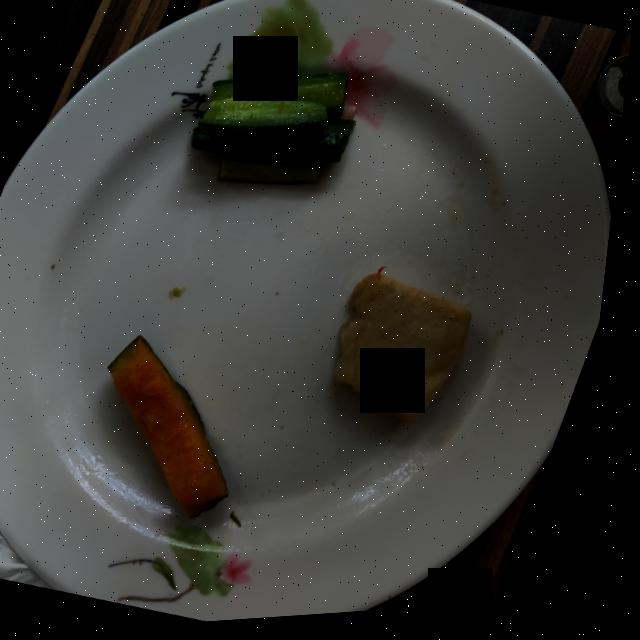coin: (600, 63, 632, 125)
creamy tofu -without sauce-: (343, 275, 480, 427)
cucumber: (195, 76, 357, 188)
pumpkin: (117, 338, 240, 520)
